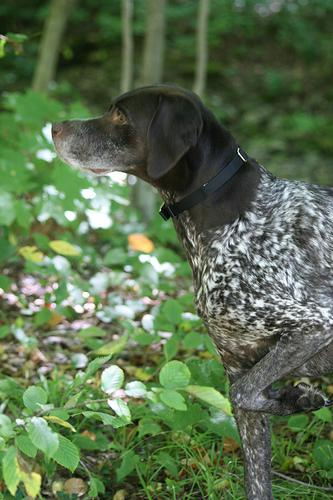dog: (51, 82, 202, 180)
